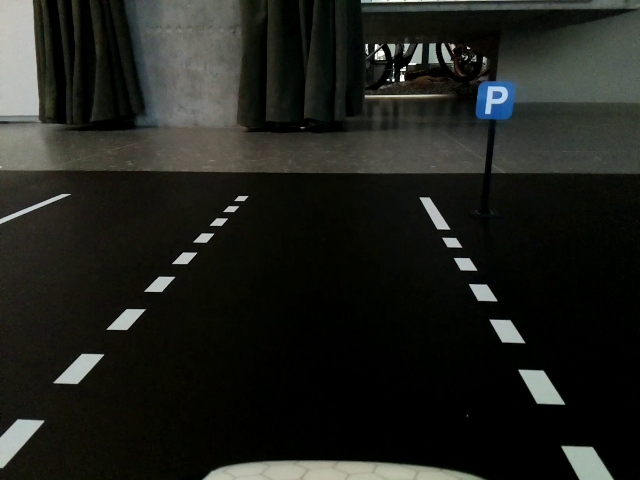park: (475, 84, 514, 122)
